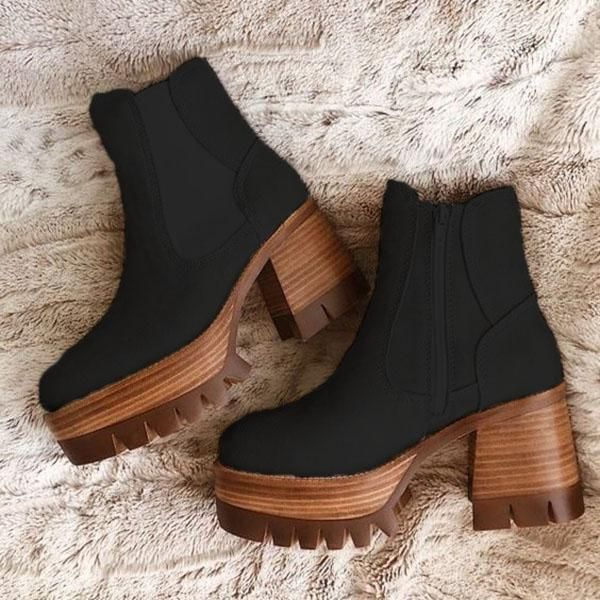gamuza: (38, 55, 565, 478)
